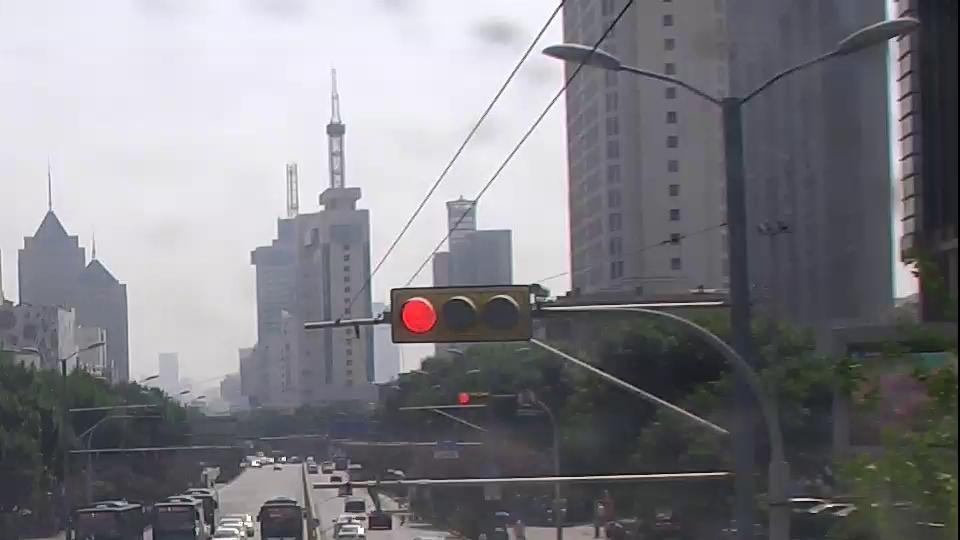red: (398, 295, 438, 334), (458, 390, 473, 404)
